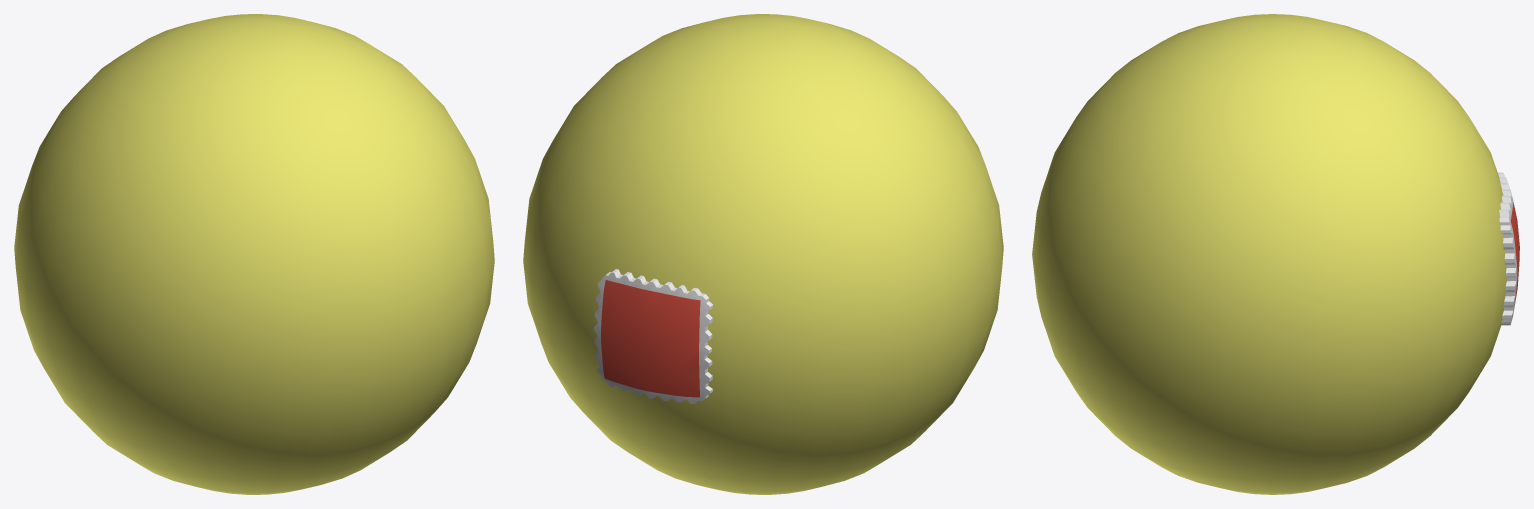
Rendered from sphere_on_stamp.fbx.
3 renders of one model, left to right at view 1: azimuth 30°, elevation 25°; view 2: azimuth 150°, elevation 25°; view 3: azimuth 270°, elevation 25°, orthographic.
Parts seen in each view (by area): view 1: Sphere; view 2: Sphere, Cube; view 3: Sphere, Cube.
Boxes of the visible parts, x1,y1,x2,y2 form: Sphere: (14,14,494,494); Sphere: (523,14,1003,494); Cube: (594,269,713,403); Sphere: (1032,14,1507,494); Cube: (1498,172,1519,325).
Bounding box in the file's own units: 100 × 100 × 101.
